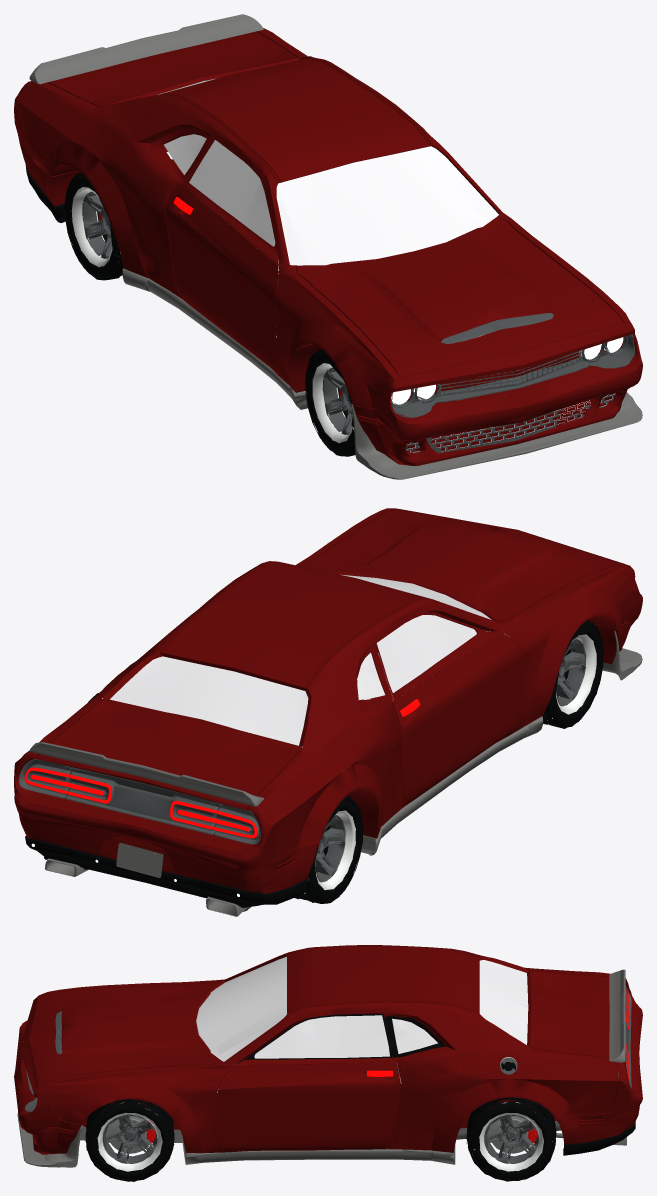
Rendered from muscle-1.glb.
3 views of the same model, one above another, from view 1: azimuth 30°, elevation 25°; view 2: azimuth 150°, elevation 25°; view 3: azimuth 270°, elevation 25° (orthographic). The views are drawn at different scales.
Visible parts, largest first — view 1: body, wheel_RR_mesh, wheel_FR_mesh; view 2: body, wheel_RR_mesh, wheel_FR_mesh; view 3: body, door_driver_mesh, wheel_RL_mesh, wheel_FL_mesh.
Boxes of the visible parts, box(x1,y1,x2,y2) form: body: box(14, 14, 642, 479); wheel_RR_mesh: box(64, 172, 123, 280); wheel_FR_mesh: box(305, 349, 355, 456); body: box(14, 508, 642, 916); wheel_RR_mesh: box(294, 796, 363, 903); wheel_FR_mesh: box(542, 620, 603, 728); body: box(14, 945, 642, 1171); door_driver_mesh: box(219, 1015, 403, 1153); wheel_RL_mesh: box(466, 1097, 556, 1181); wheel_FL_mesh: box(85, 1099, 174, 1181).
Size of the model in its own units: 1.98 by 1.42 by 5.
Materials: 3 (3 with a texture image).
